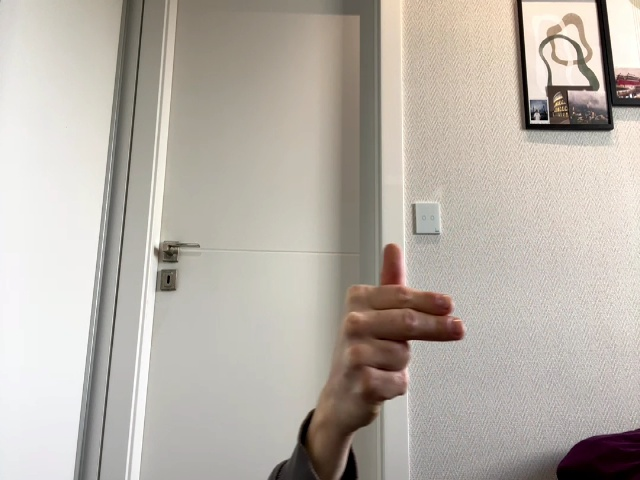N: (336, 244, 465, 416)
